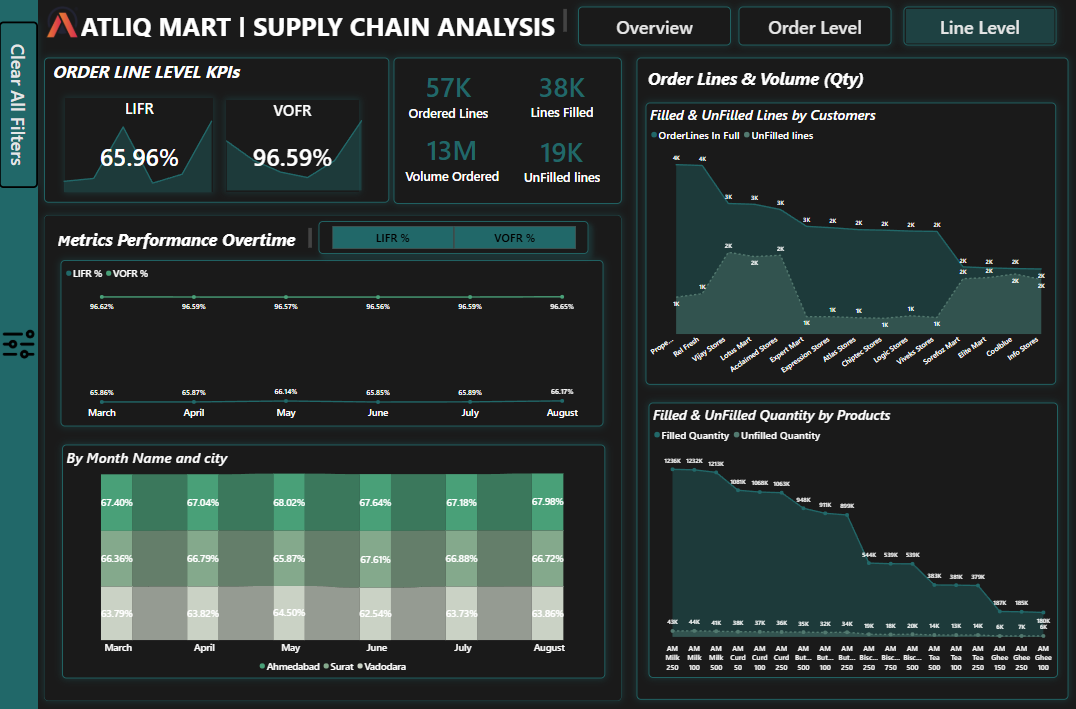

What the dashboard file says about the page in this screenshot:
{"tool":"powerbi","page":{"name":"Page 3","canvas":[2400,1600],"ordinal":2},"visuals":[{"type":"areaChart","fields":{"Y":["DAX.LIFR %"],"Category":["dim_date.Month Name"]},"box":[112.5,250,390,187.5],"z":0,"group":"g1"},{"type":"shape","box":[0,0,86.7,1600],"z":1000},{"type":"card","title":"LIFR","fields":{"Values":["DAX.LIFR %"]},"box":[145,225,330,210],"z":1000,"group":"g1"},{"type":"actionButton","box":[0,56.7,86.7,370],"z":1500},{"type":"shape","box":[1415,137.5,960,1427.5],"z":2000},{"type":"shape","box":[100,486.7,1283.3,1080],"z":3000},{"type":"shape","box":[877.5,137.5,507.5,325],"z":4000},{"type":"card","fields":{"Values":["DAX.Total Order Lines"]},"box":[897.5,152.5,202.5,127.5],"z":5000},{"type":"card","fields":{"Values":["DAX.OrderLines In Full"]},"box":[1117.5,147.5,267.5,140],"z":6000},{"type":"card","fields":{"Values":["DAX.UnFilled lines"]},"box":[1127.5,297.5,247.5,127.5],"z":7000},{"type":"card","fields":{"Values":["DAX.Total Quantity Ordered"]},"box":[897.5,290,220,135],"z":8000},{"type":"shape","box":[100,137.5,767.5,322.5],"z":9000},{"type":"textbox","box":[112.5,137.5,435,62.5],"z":10000},{"type":"image","box":[86.7,16.7,110,80],"z":11000},{"type":"textbox","box":[176.7,21.7,1090,71.7],"z":12000},{"type":"lineChart","title":"OT Performance","fields":{"Y":["DAX.LIFR %","DAX.VOFR %"],"Category":["dim_date.Month Name"]},"box":[136.7,586.7,1206.7,370],"z":14000},{"type":"ribbonChart","title":"By Month Name and city","fields":{"Y":["DAX.LIFR %"],"Category":["dim_date.Month Name"],"Series":["dim_customers.city"]},"box":[140,995,1207.5,520],"z":15000},{"type":"textbox","box":[125,508.3,573.3,56.7],"z":16000},{"type":"actionButton","box":[1286.7,23.3,340,86.7],"z":18000},{"type":"actionButton","box":[1643.3,23.3,340,86.7],"z":19000},{"type":"actionButton","box":[2010,23.3,340,86.7],"z":20000},{"type":"group","id":"g1","title":"Group 3","box":[112.5,225,390,212.5],"z":21000},{"type":"areaChart","fields":{"Category":["dim_date.Month Name"],"Y":["DAX.VOFR %"]},"box":[475,247.5,357.5,190],"z":22000},{"type":"card","title":"VOFR","fields":{"Values":["DAX.VOFR %"]},"box":[502.5,230,297.5,205],"z":23000},{"type":"slicer","fields":{"Values":["LV.LV"]},"box":[710,500,600,73.3],"z":24000},{"type":"areaChart","title":"Filled & UnFilled Lines by Customers","fields":{"Category":["dim_customers.customer_name"],"Y":["DAX.OrderLines In Full","DAX.UnFilled lines"]},"box":[1437.5,235,912.5,627.5],"z":25000},{"type":"areaChart","title":"Filled & UnFilled Quantity by Products","fields":{"Category":["dim_products.product_name"],"Y":["DAX.Filled Quantity","DAX.Unfilled Quantity"]},"box":[1444,904,910,612],"z":26000},{"type":"textbox","box":[1437.5,152.5,537.5,70],"z":27000},{"type":"image","box":[0,723.3,86.7,100],"z":28000}]}

Visuals, with their boxes in screenshot pixels (x1, y1, x2, y2), scaled from the page's 2400x1600 canvas onto the 1076x709 screenshot:
areaChart - DAX.LIFR % x dim_date.Month Name: 50, 111, 225, 194
shape: 0, 0, 39, 708
"LIFR" card: 65, 100, 213, 193
actionButton: 0, 25, 39, 189
shape: 634, 61, 1065, 693
shape: 45, 216, 620, 694
shape: 393, 61, 621, 205
card - DAX.Total Order Lines: 402, 68, 493, 124
card - DAX.OrderLines In Full: 501, 65, 621, 127
card - DAX.UnFilled lines: 505, 132, 616, 188
card - DAX.Total Quantity Ordered: 402, 129, 501, 188
shape: 45, 61, 389, 204
textbox: 50, 61, 245, 89
image: 39, 7, 88, 43
textbox: 79, 10, 568, 41
"OT Performance" lineChart: 61, 260, 602, 424
"By Month Name and city" ribbonChart: 63, 441, 604, 671
textbox: 56, 225, 313, 250
actionButton: 577, 10, 729, 49
actionButton: 737, 10, 889, 49
actionButton: 901, 10, 1054, 49
"Group 3" group: 50, 100, 225, 194
areaChart - dim_date.Month Name x DAX.VOFR %: 213, 110, 373, 194
"VOFR" card: 225, 102, 359, 193
slicer - LV.LV: 318, 222, 587, 254
"Filled & UnFilled Lines by Customers" areaChart: 644, 104, 1054, 382
"Filled & UnFilled Quantity by Products" areaChart: 647, 401, 1055, 672
textbox: 644, 68, 885, 99
image: 0, 321, 39, 365
